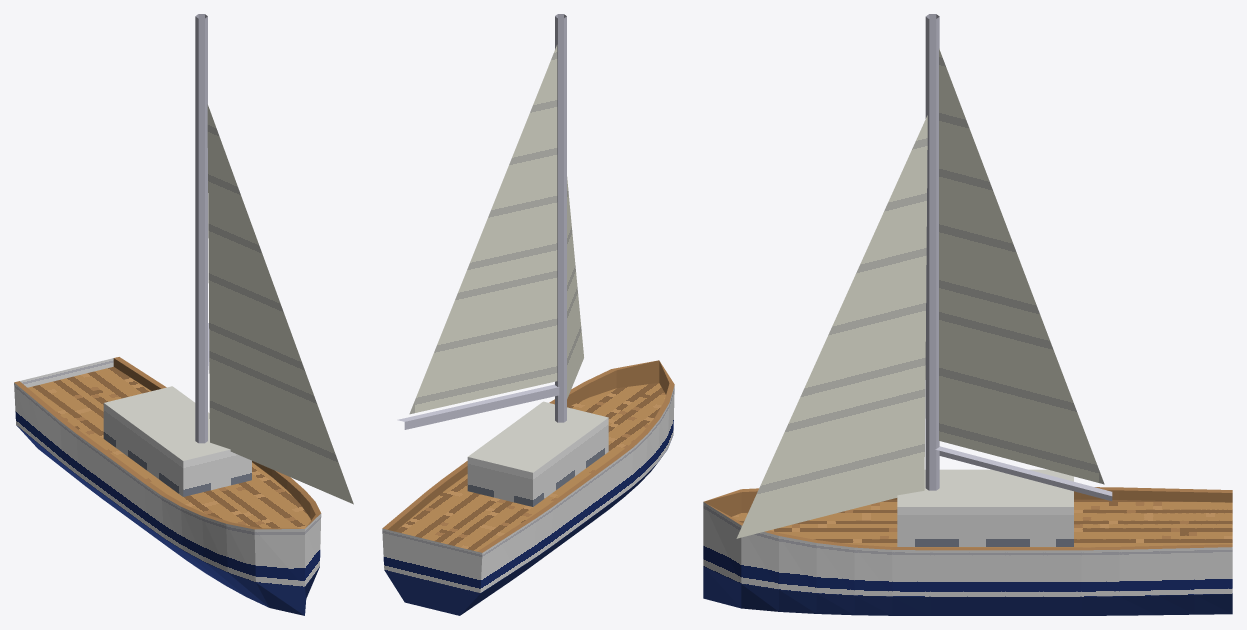
The model's file is sailboat_v.obj.
3 views of the same model, side by side, from view 1: azimuth 30°, elevation 25°; view 2: azimuth 150°, elevation 25°; view 3: azimuth 270°, elevation 25° (orthographic). The views are drawn at different scales.
Size of the model in its own units: 31.64 by 106 by 87.
